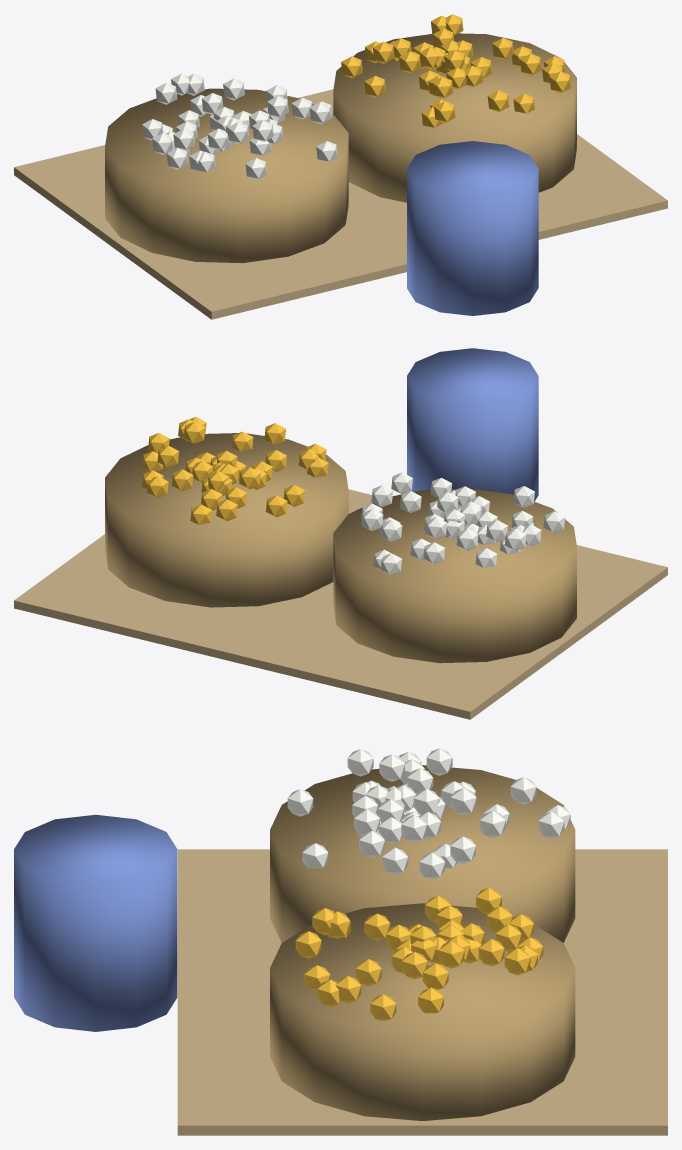
Rendered from life_flowers.glb.
3 views of the same model, one above another, from view 1: azimuth 30°, elevation 25°; view 2: azimuth 150°, elevation 25°; view 3: azimuth 270°, elevation 25° (orthographic). The views are drawn at different scales.
Parts seen in each view (by area): view 1: Mat; view 2: Mat; view 3: Mat.
Boxes of the visible parts, bbox=[...] form: Mat: bbox=[14, 14, 667, 319]; Mat: bbox=[14, 348, 667, 719]; Mat: bbox=[14, 748, 667, 1135].
Size of the model in its own units: 1.2 by 0.3 by 1.2.
